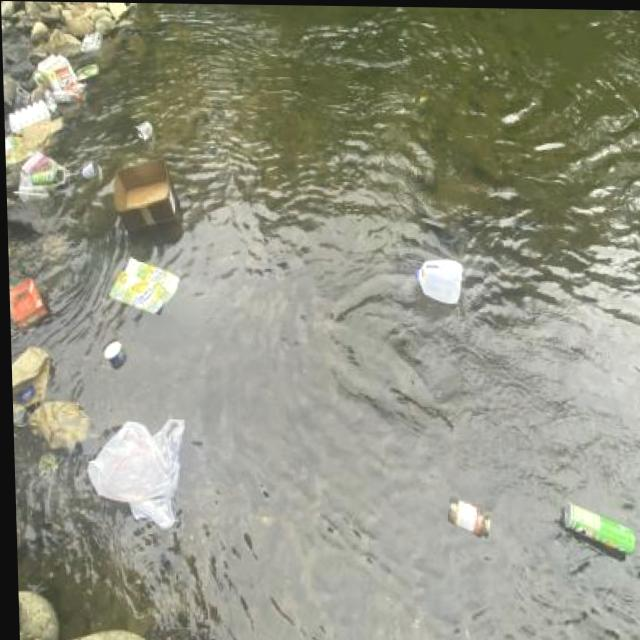Bottle-Glass: (438, 485, 492, 539)
Can-Metal: (551, 494, 636, 558), (70, 58, 100, 82), (75, 157, 105, 180)
Cardboard: (106, 153, 177, 232), (104, 252, 185, 315), (8, 149, 70, 200), (6, 270, 53, 333)
Paper: (22, 392, 91, 455), (8, 342, 55, 421), (98, 331, 128, 368)
Plastic: (77, 403, 189, 533), (2, 94, 57, 161), (408, 253, 466, 306), (24, 51, 79, 104), (76, 27, 105, 55), (131, 117, 158, 142)
